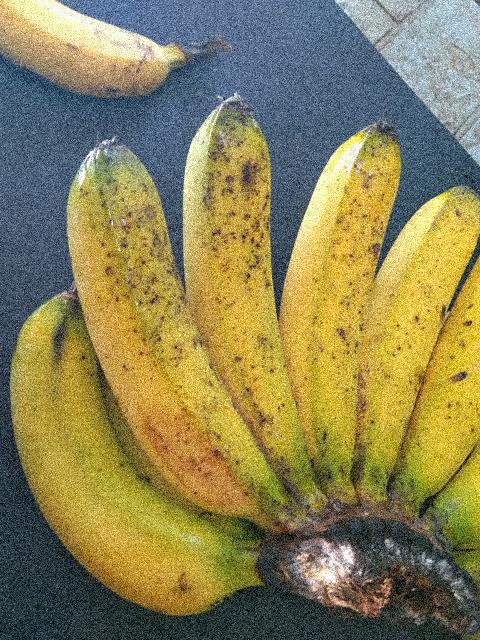ripe: (47, 117, 288, 538), (1, 292, 248, 632), (166, 86, 324, 500), (348, 172, 479, 560), (276, 122, 407, 500), (0, 0, 190, 102)
